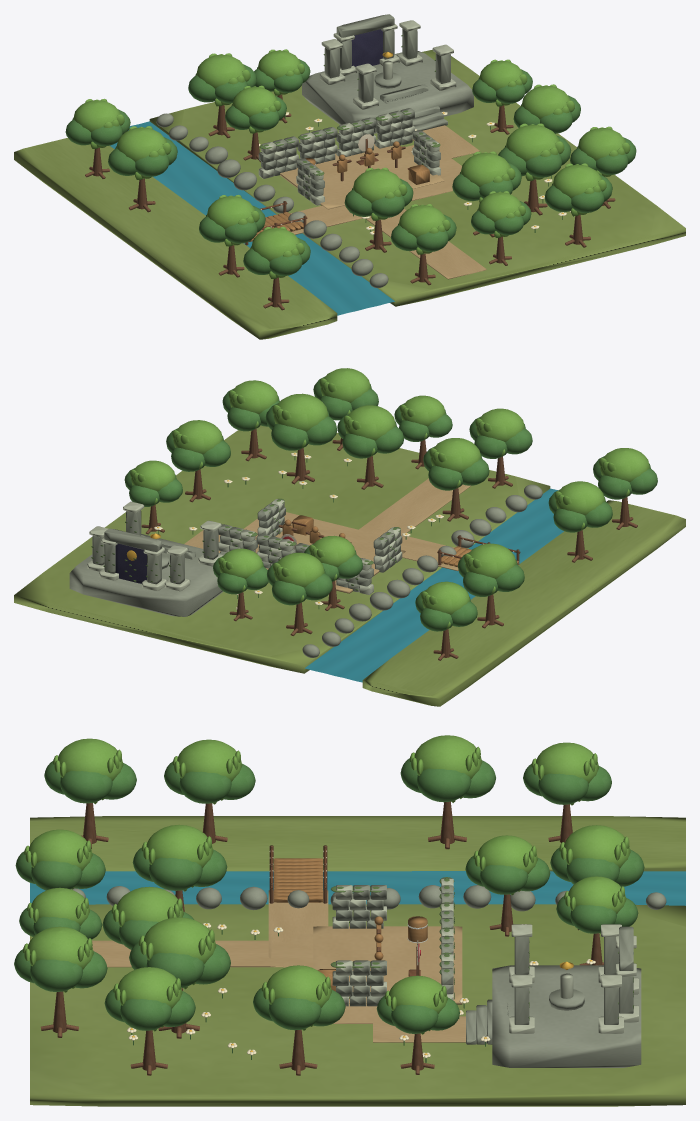
Rendered from verdant_restored.glb.
3 renders of one model, top to bottom at view 1: azimuth 30°, elevation 25°; view 2: azimuth 150°, elevation 25°; view 3: azimuth 270°, elevation 25°, orthographic. The views are drawn at different scales.
Visible parts, largest first — view 1: verdant_restored_StaticBatch; view 2: verdant_restored_StaticBatch; view 3: verdant_restored_StaticBatch.
Part boxes in pixels (x1,y1,x2,y2): verdant_restored_StaticBatch: (14, 14, 685, 339); verdant_restored_StaticBatch: (14, 368, 685, 706); verdant_restored_StaticBatch: (14, 735, 685, 1106).
Size of the model in its own units: 22 by 4.51 by 22.54.
Materials: 1 (1 with a texture image).
